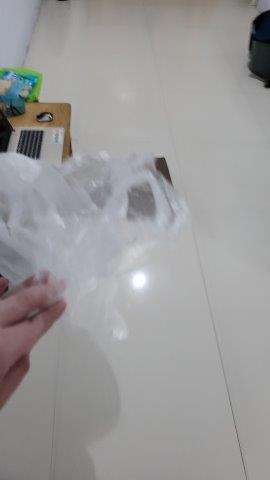plastik: (1, 146, 190, 357)
